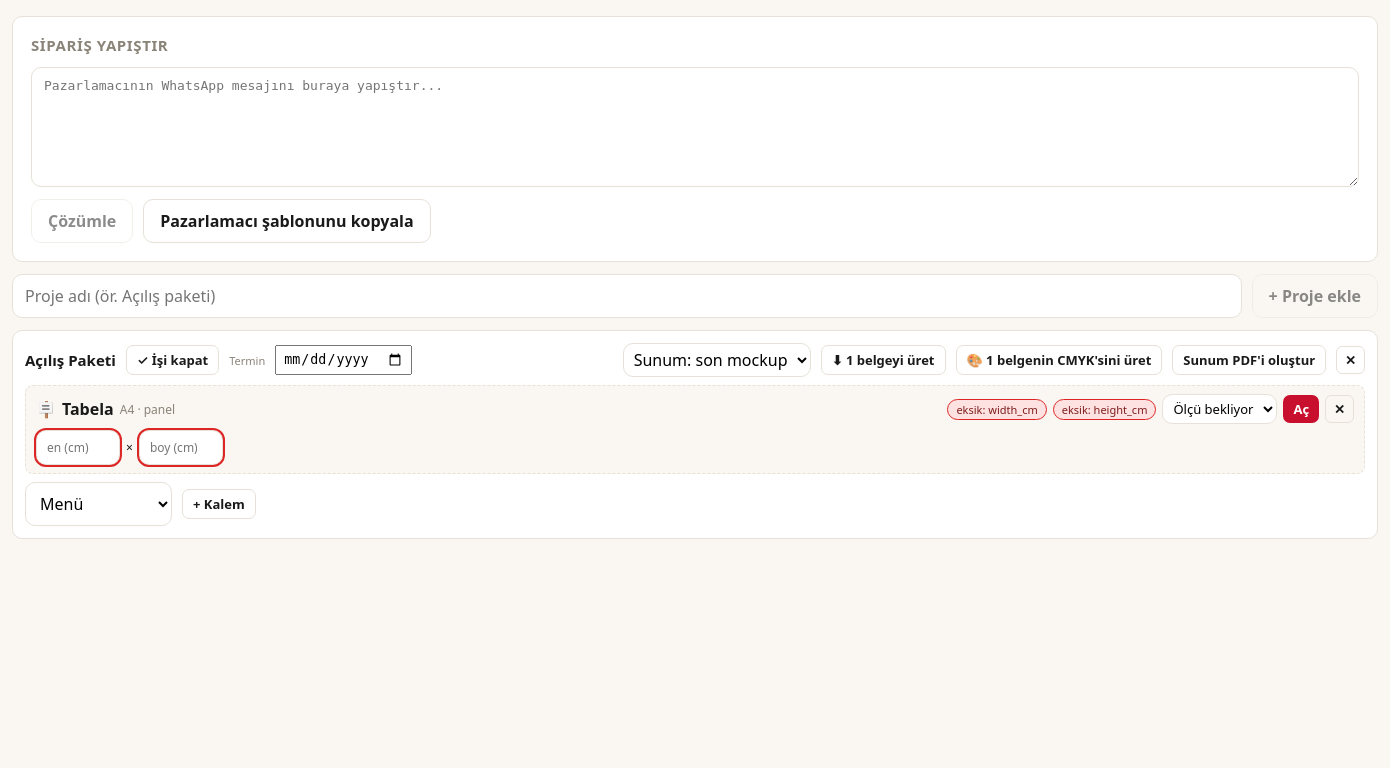
it: toplu CMYK sonucu › KAYITSIZ ŞABLON panelde ADIYLA görünür — 'atlandı' sayısına gömülmez
This screenshot has width=1390, height=768.
Click the button "🎨 1 belgenin CMYK'sini üret" at (1059, 360), box [956,345,1162,375]
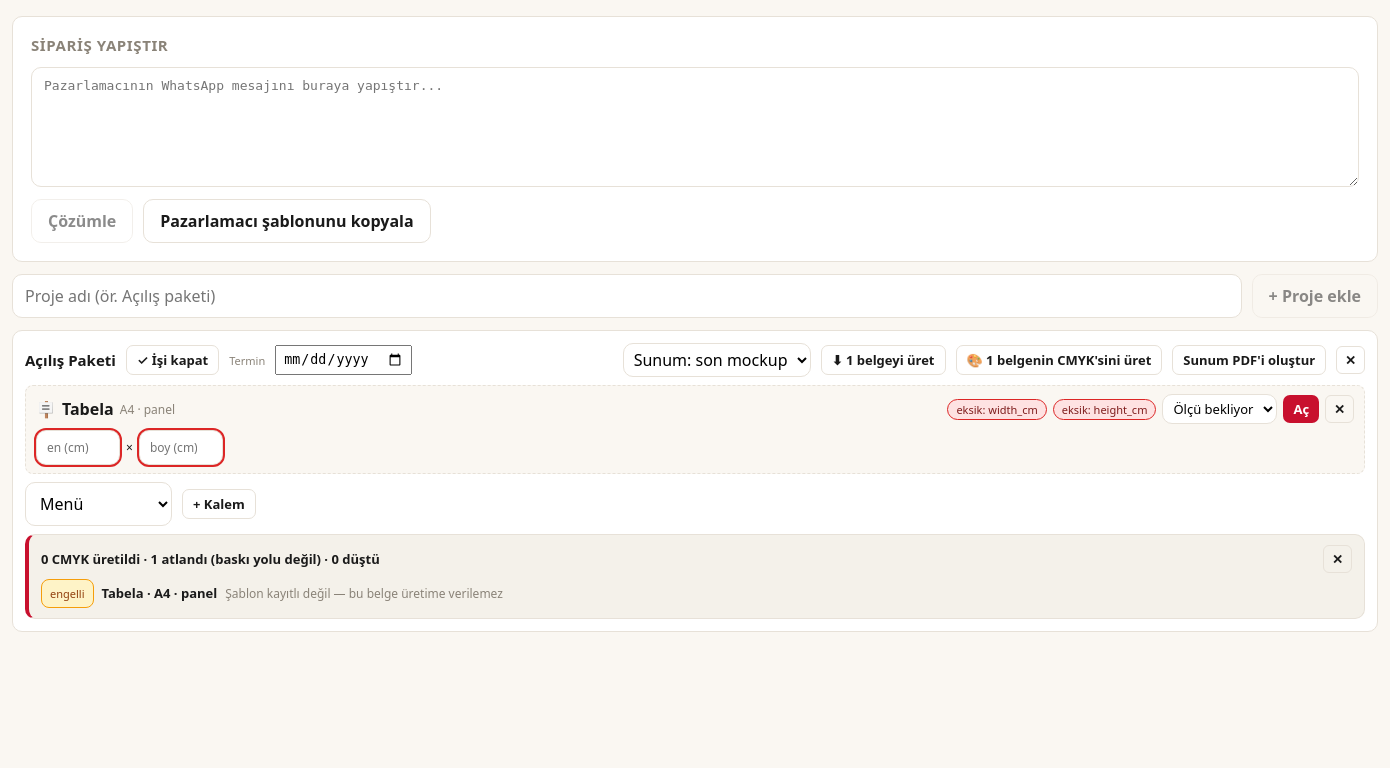
expect the number of elements with class "tur-sonucu-satir" is 1: met, box [41,579,503,608]
expect the element with class "tur-sonucu" shows "Şablon kayıtlı değil": met, box [225,585,503,602]
